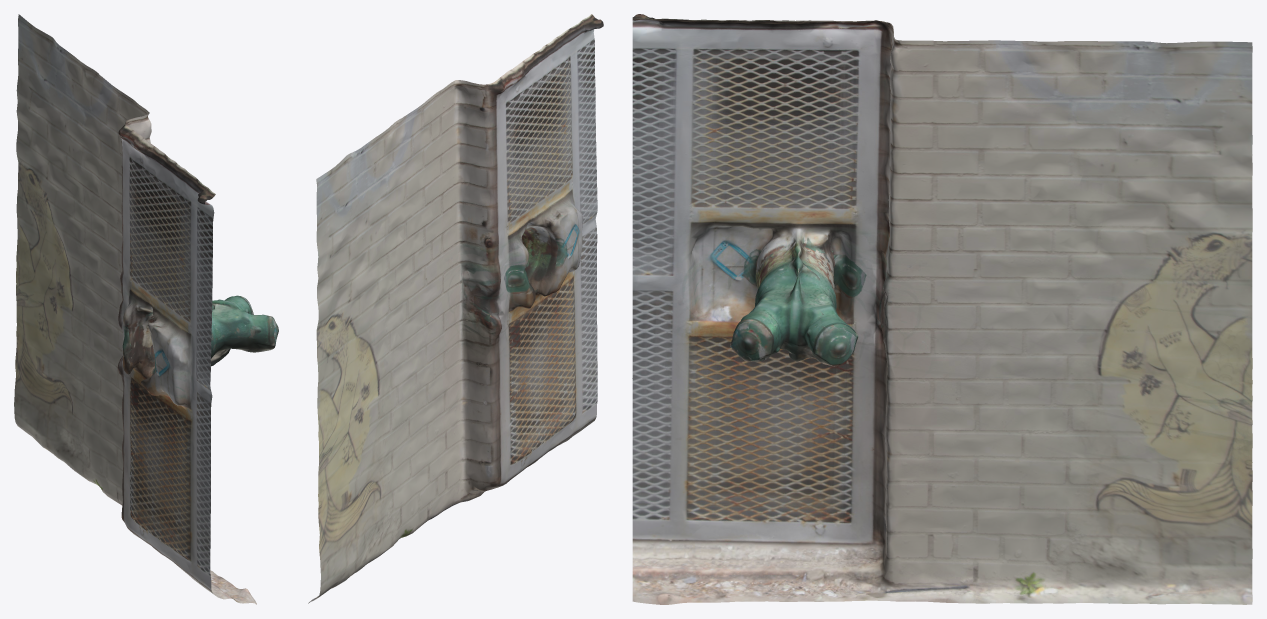
File: Wall_Chunk7.fbx
3 views of the same model, side by side, from view 1: azimuth 30°, elevation 25°; view 2: azimuth 150°, elevation 25°; view 3: azimuth 270°, elevation 25° (orthographic). The views are drawn at different scales.
Parts seen in each view (by area): view 1: Model; view 2: Model; view 3: Model.
Part boxes in pixels (box(x1,y1,x2,y2)): Model: box(14, 14, 278, 604); Model: box(308, 14, 603, 603); Model: box(632, 14, 1252, 604).
Size of the model in its own units: 2.6 by 8.2 by 8.27.
